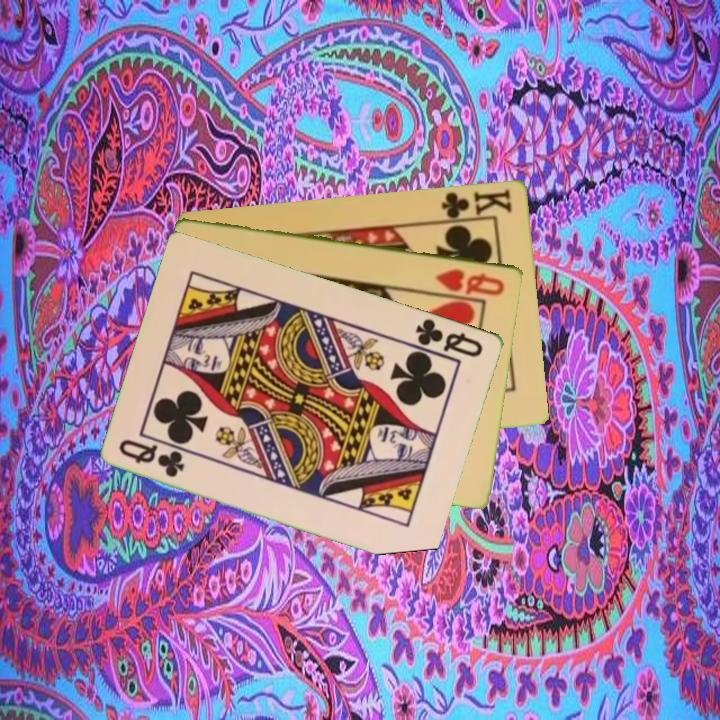Kc: (436, 185, 515, 224)
Qc: (412, 314, 487, 360), (116, 435, 188, 480)
Qh: (432, 264, 508, 298)
